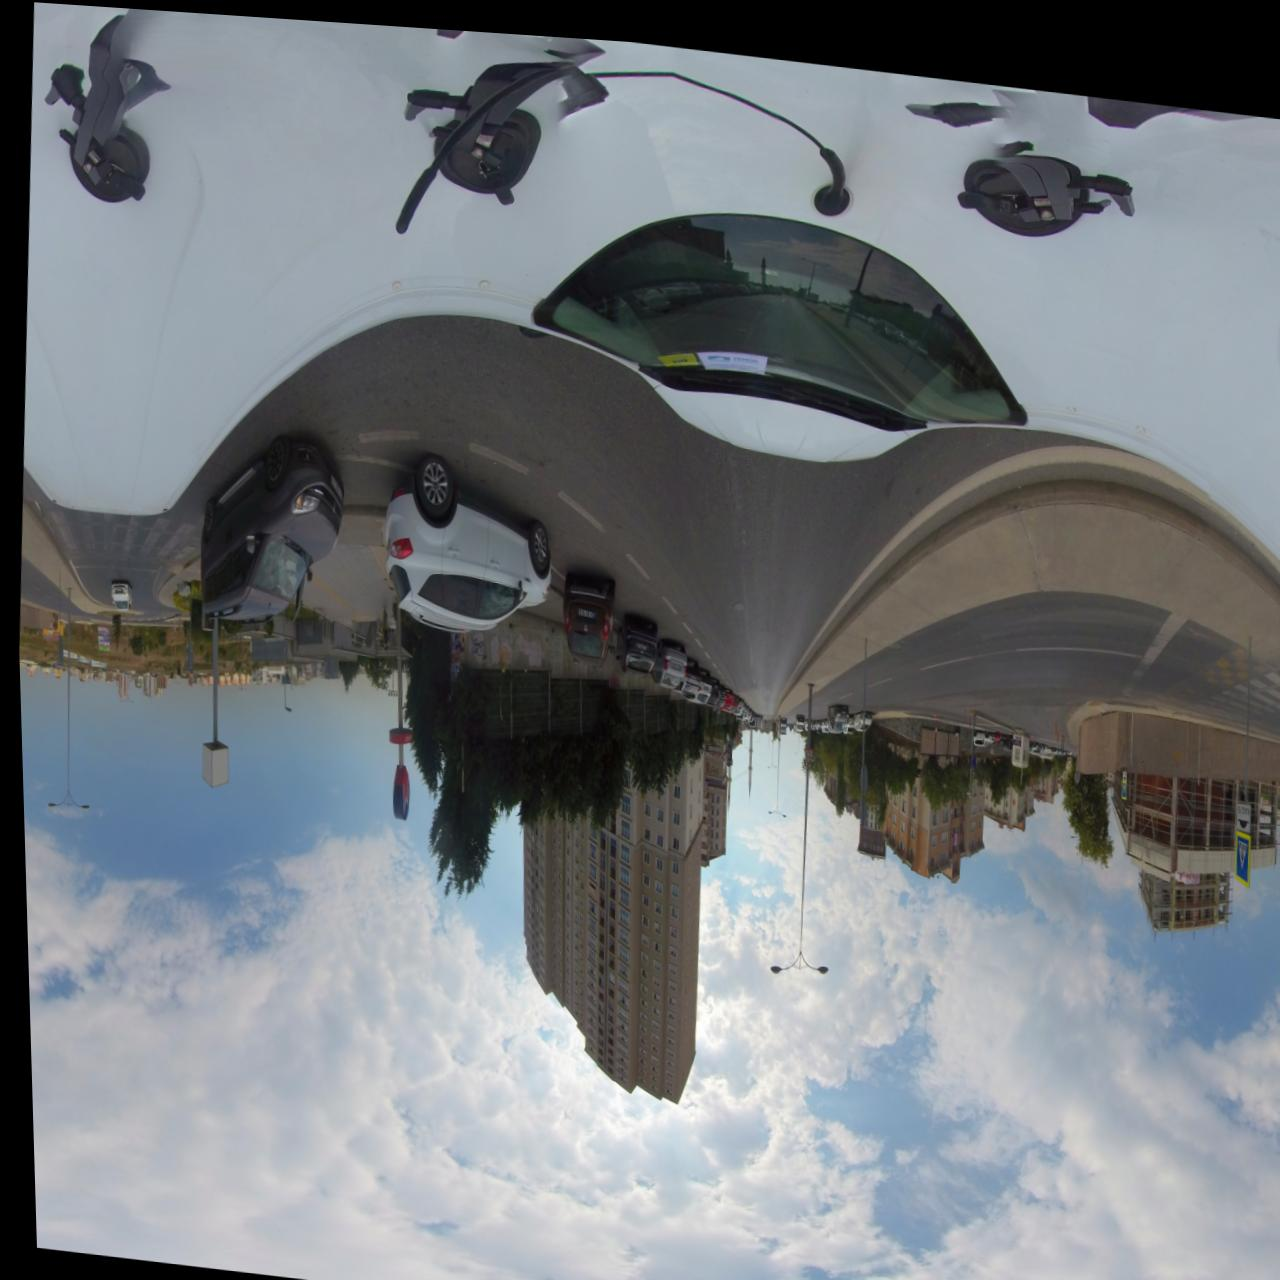SignStore: (699, 740, 715, 747)
